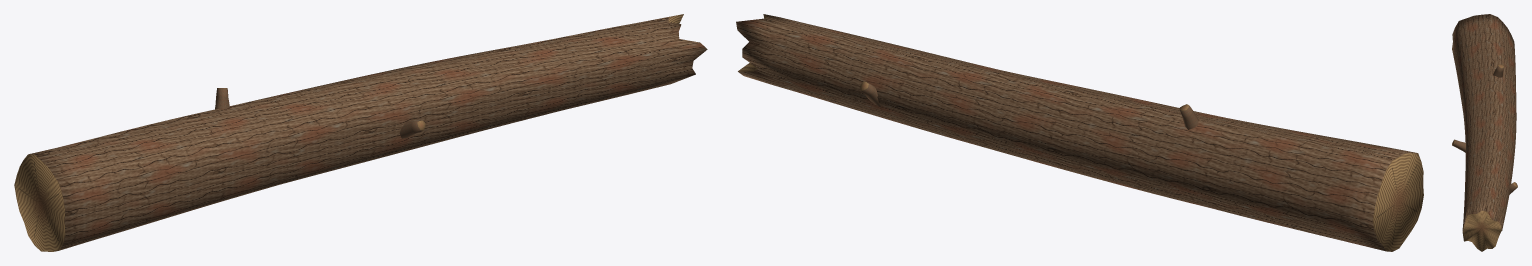
The model's file is fallen_log_straight.fbx.
3 renders of one model, left to right at view 1: azimuth 30°, elevation 25°; view 2: azimuth 150°, elevation 25°; view 3: azimuth 270°, elevation 25°, orthographic. The views are drawn at different scales.
Visible parts, largest first — view 1: FallenLogStraightMesh; view 2: FallenLogStraightMesh; view 3: FallenLogStraightMesh.
Boxes of the visible parts, x1,y1,x2,y2 form: FallenLogStraightMesh: (14,14,707,251); FallenLogStraightMesh: (736,14,1423,251); FallenLogStraightMesh: (1452,14,1517,251).
Bounding box in the file's own units: 18.19 × 2.62 × 2.81.
